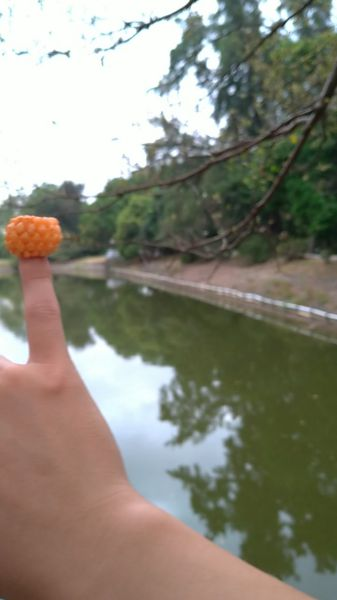eggs: (6, 213, 63, 259)
